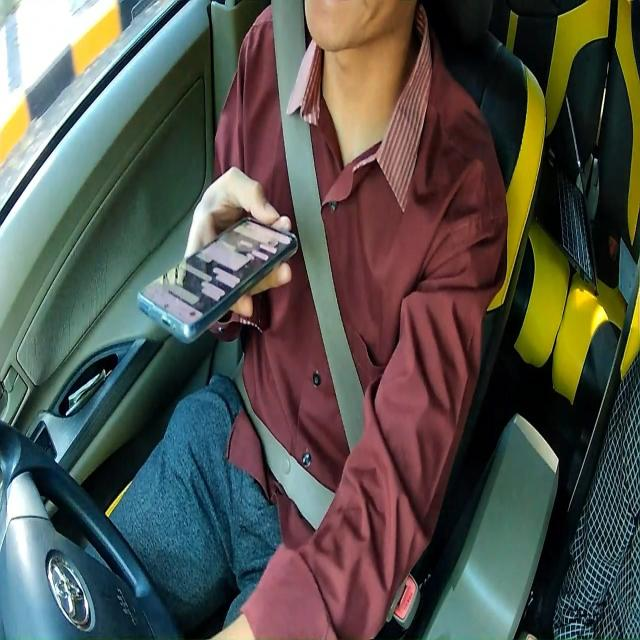phone: (136, 209, 300, 345)
